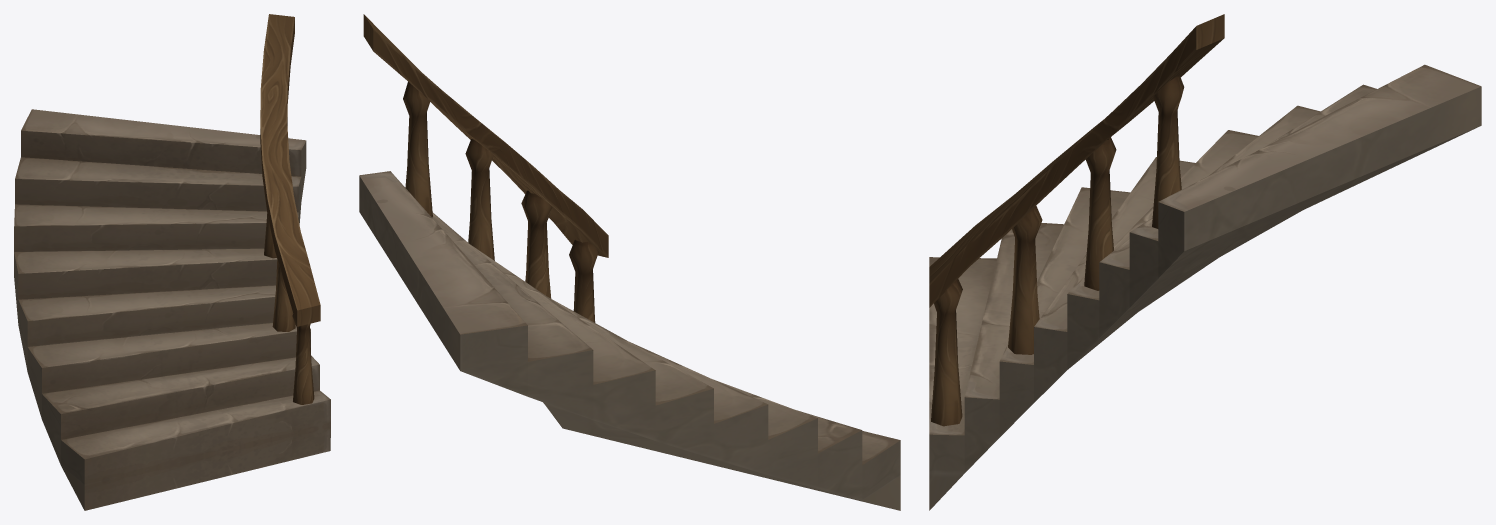
File: Stairs_round.FBX
3 renders of one model, left to right at view 1: azimuth 30°, elevation 25°; view 2: azimuth 150°, elevation 25°; view 3: azimuth 270°, elevation 25°, orthographic. The views are drawn at different scales.
Visible parts, largest first — view 1: Stairs_round; view 2: Stairs_round; view 3: Stairs_round.
Boxes of the visible parts, box(x1,y1,x2,y2) form: Stairs_round: box(14, 14, 330, 510); Stairs_round: box(359, 14, 900, 510); Stairs_round: box(929, 14, 1481, 510).
Bounding box in the file's own units: 2793 × 3072 × 2933.
